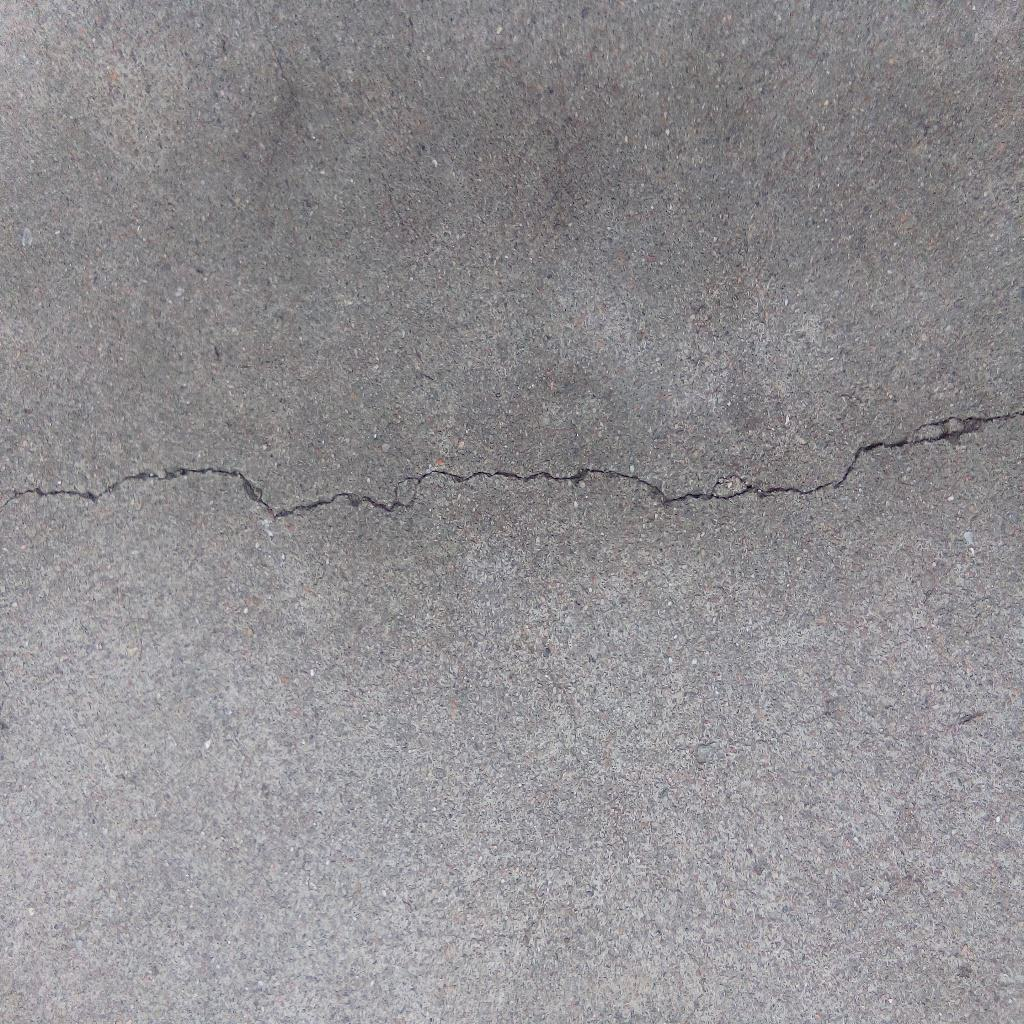Crack: (1, 409, 1024, 522)
